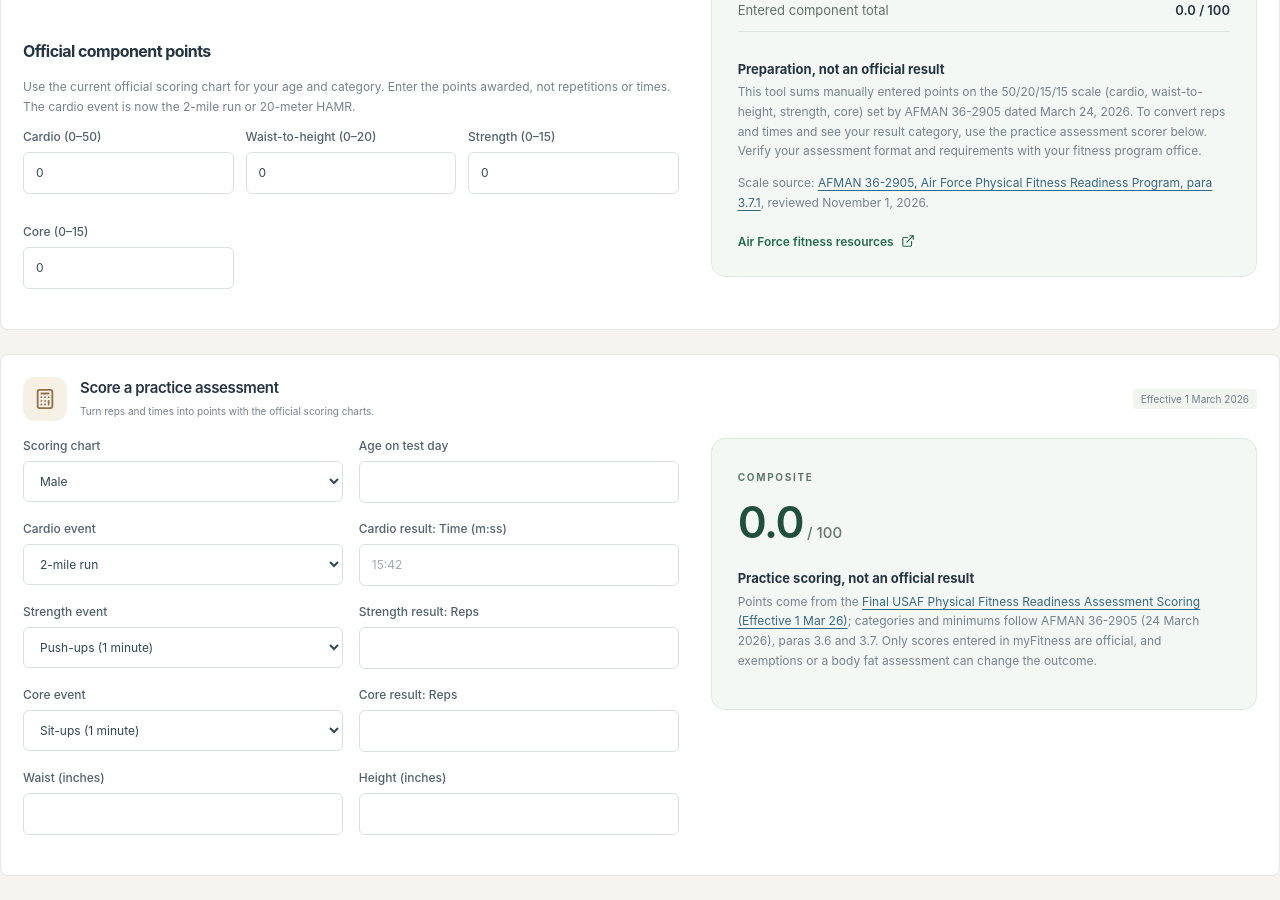
Scenario: practice assessment scoring › flags results below the chart minimum and invalid times
(page scrolled)
Type "22" into the number field labelled "Age on test day".
click(519, 482); type("22")  # box [359,461,679,503]
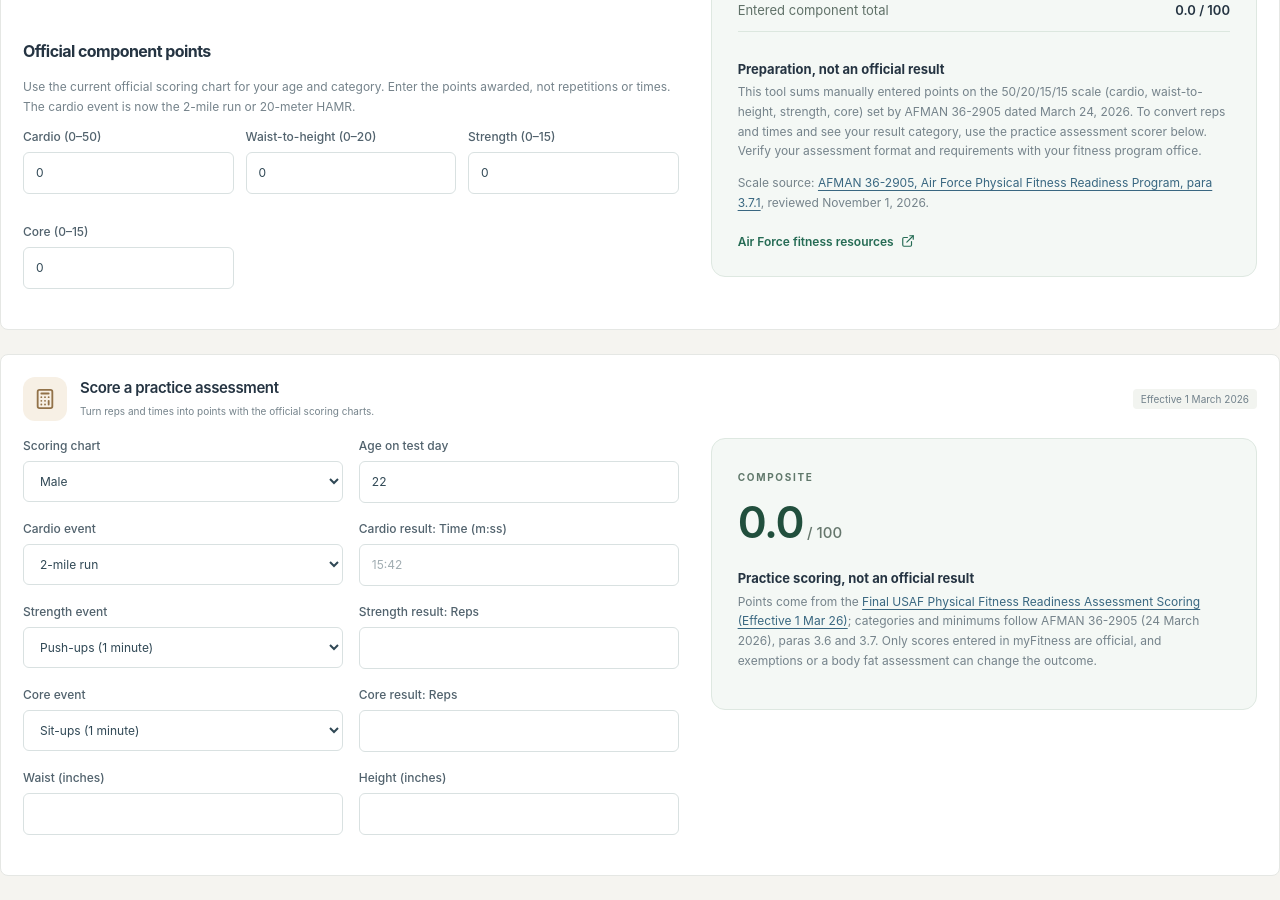
Type "19:46" into the field labelled "Cardio result: Time (m:ss)".
click(519, 565); type("19:46")  # box [359,544,679,586]
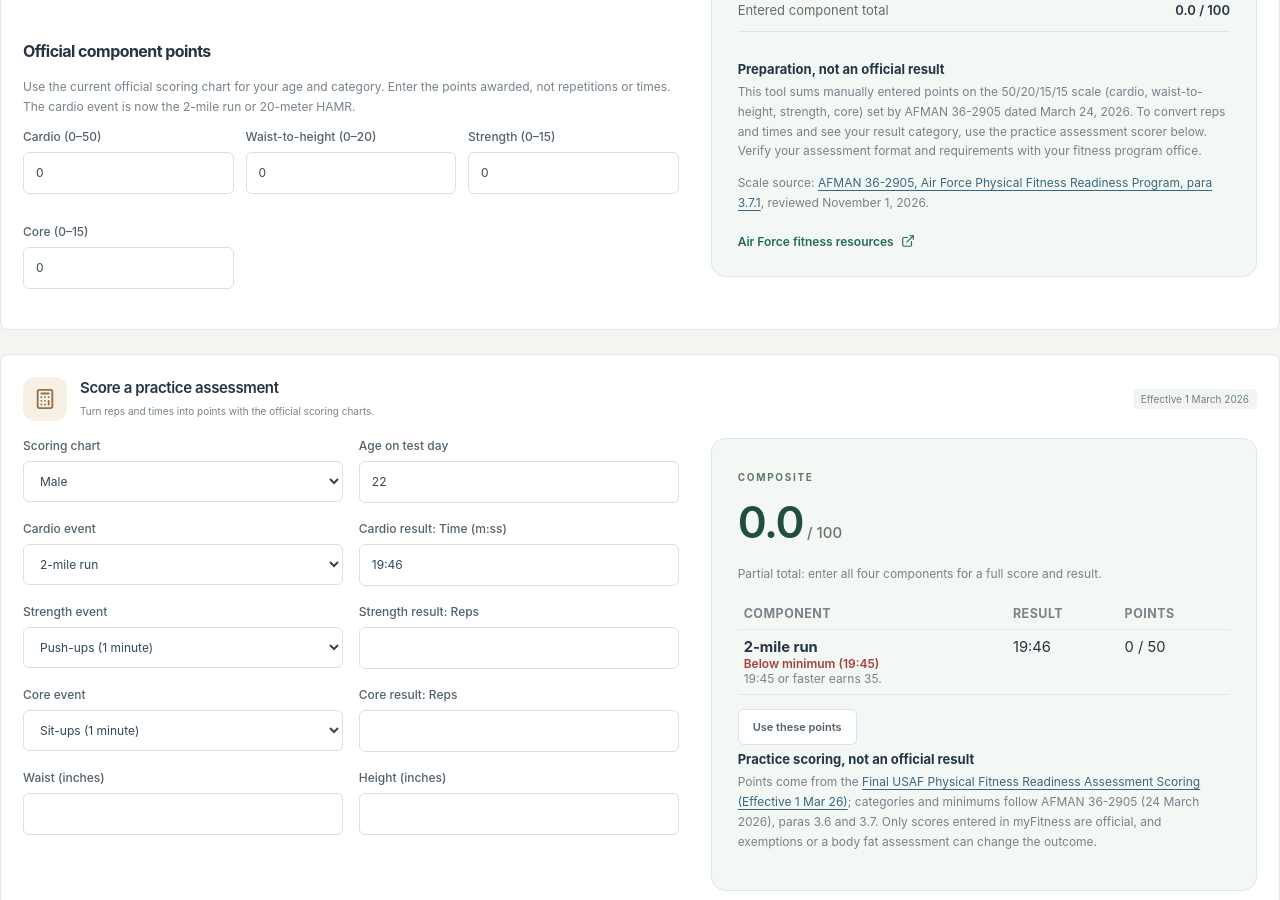
Result: the text "Below minimum (19:45)" is shown at [744,656,879,671]
Replace the text in the field labelled "Cardio result: Time (m:ss)" with "19.46" at [519, 565], box [359,544,679,586]
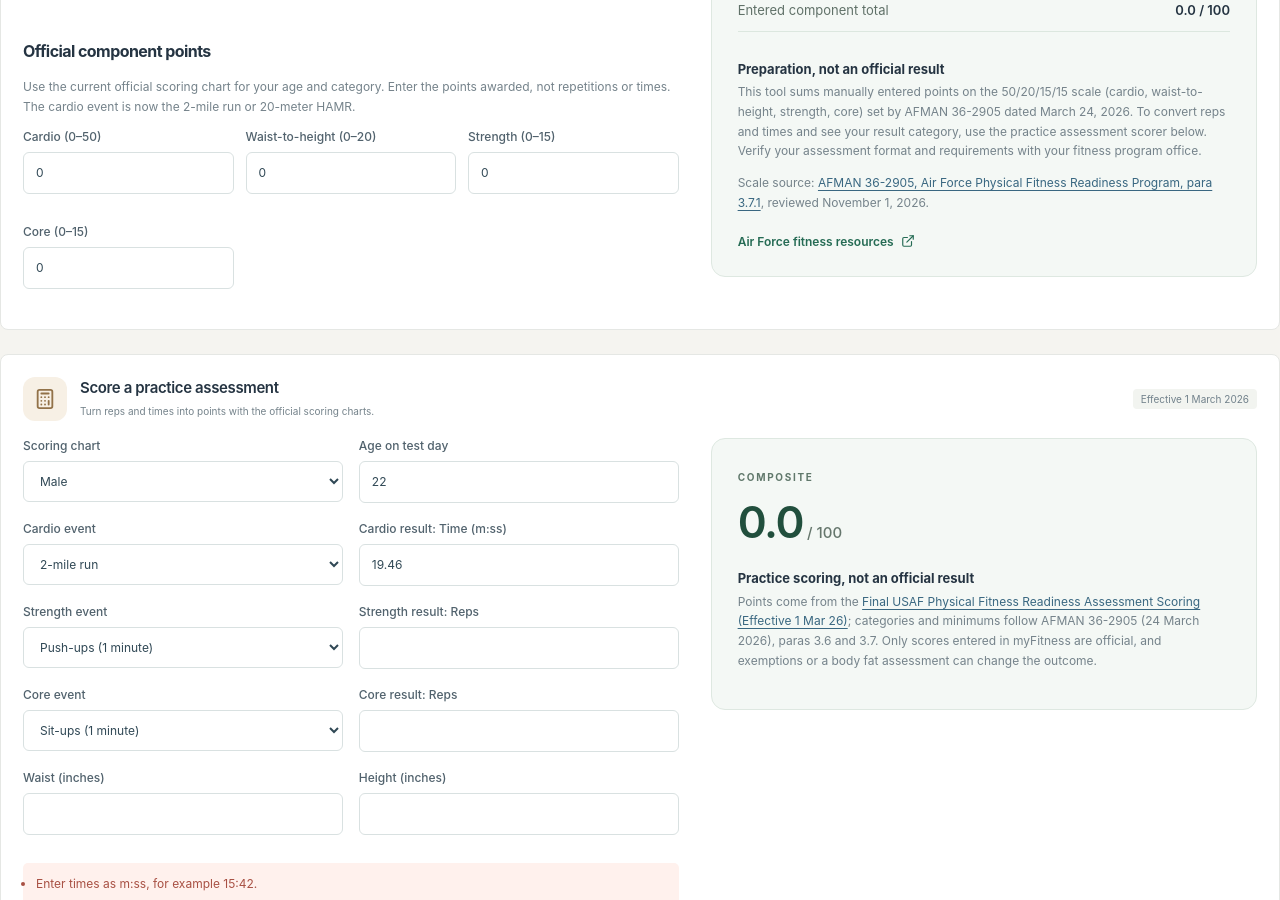
Result: the list item "Enter times as m:ss, for example 15:42." is shown at [36,876,257,891]
